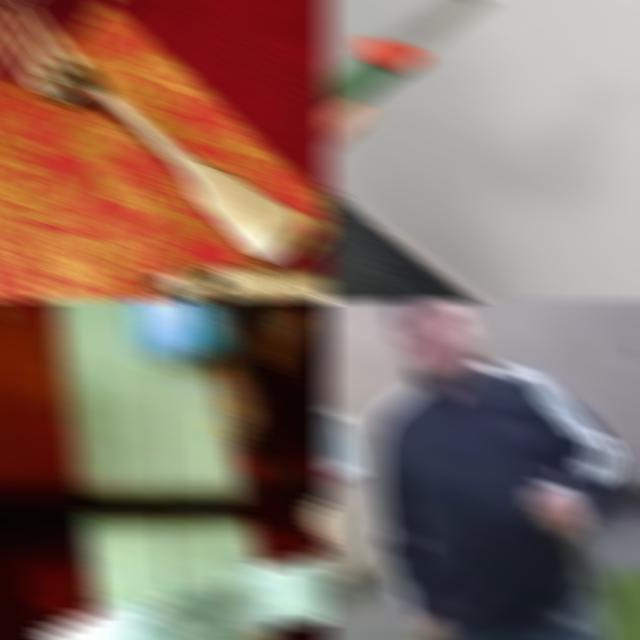Knife: (320, 0, 491, 116)
Knife_Handle: (29, 353, 332, 640), (524, 481, 623, 615)
